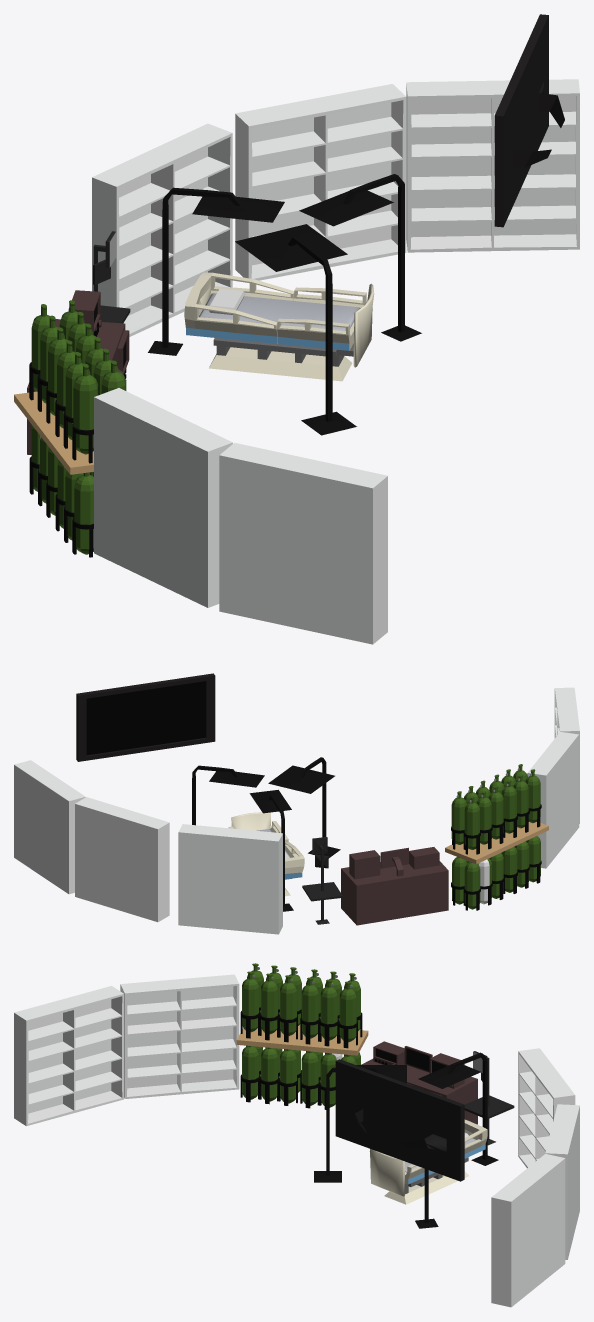
File: medicalroom.fbx
The picture shows the model from 3 angles, top to bottom: view 1: azimuth 30°, elevation 25°; view 2: azimuth 150°, elevation 25°; view 3: azimuth 270°, elevation 25°; orthographic projection. The views are drawn at different scales.
Parts seen in each view (by area): view 1: medicine cabinet.015, medicine cabinet.018, medicine cabinet.017, medicine cabinet.016, medicine cabinet.019, cama_cama_0.003, health monitor.003, stand.003, stand 2.006, stand 2.007, o2 carrier 1.007, colchao_Colchao_0.003 (+10 smaller); view 2: medicine cabinet.019, medicine cabinet.017, health monitor.003, medicine cabinet.018, ECG.003, medicine cabinet.016, o2 carrier 1.007, stand.003, o2 rack.006, cama_cama_0.003, Cube.060, medicine cabinet.015 (+19 smaller); view 3: medicine cabinet.016, medicine cabinet.015, health monitor.003, medicine cabinet.018, medicine cabinet.019, o2 carrier 1.007, cama_cama_0.003, medicine cabinet.017, o2 rack.006, stand 2.006, ECG.003, stand.003 (+14 smaller).
Boxes of the visible parts, bbox=[...] form: medicine cabinet.015: bbox=[219, 442, 387, 644]; medicine cabinet.018: bbox=[406, 79, 579, 252]; medicine cabinet.017: bbox=[235, 84, 406, 280]; medicine cabinet.016: bbox=[94, 388, 232, 607]; medicine cabinet.019: bbox=[92, 123, 232, 336]; cama_cama_0.003: bbox=[184, 272, 374, 381]; health monitor.003: bbox=[494, 14, 564, 227]; stand.003: bbox=[235, 224, 356, 435]; stand 2.006: bbox=[148, 187, 284, 355]; stand 2.007: bbox=[299, 174, 421, 341]; o2 carrier 1.007: bbox=[29, 362, 93, 557]; colchao_Colchao_0.003: bbox=[199, 293, 360, 331]; medicine cabinet.019: bbox=[178, 824, 282, 934]; medicine cabinet.017: bbox=[75, 797, 169, 922]; health monitor.003: bbox=[76, 673, 215, 761]; medicine cabinet.018: bbox=[14, 760, 85, 894]; ECG.003: bbox=[341, 861, 448, 925]; medicine cabinet.016: bbox=[527, 732, 579, 868]; o2 carrier 1.007: bbox=[451, 804, 541, 910]; stand.003: bbox=[268, 757, 340, 858]; o2 rack.006: bbox=[445, 822, 548, 864]; cama_cama_0.003: bbox=[228, 812, 304, 896]; Cube.060: bbox=[302, 837, 342, 924]; medicine cabinet.015: bbox=[554, 687, 579, 823]; medicine cabinet.016: bbox=[120, 974, 239, 1098]; medicine cabinet.015: bbox=[14, 986, 123, 1126]; health monitor.003: bbox=[335, 1059, 464, 1181]; medicine cabinet.018: bbox=[491, 1154, 565, 1307]; medicine cabinet.019: bbox=[518, 1048, 575, 1168]; o2 carrier 1.007: bbox=[240, 1007, 362, 1109]; cama_cama_0.003: bbox=[369, 1119, 487, 1204]; medicine cabinet.017: bbox=[545, 1104, 579, 1259]; o2 rack.006: bbox=[236, 1025, 368, 1055]; stand 2.006: bbox=[418, 1052, 498, 1165]; ECG.003: bbox=[361, 1058, 477, 1124]; stand.003: bbox=[314, 1065, 406, 1182].
Size of the model in its own units: 1249 by 471 by 1288.
